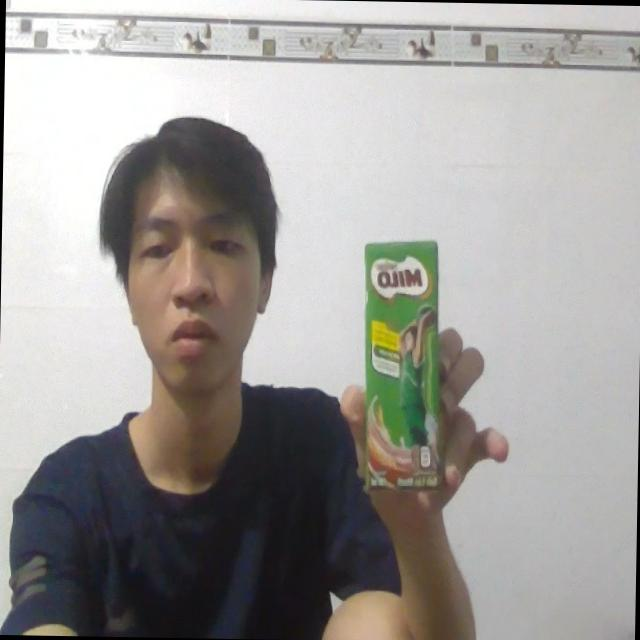sua milo: (352, 231, 452, 504)
